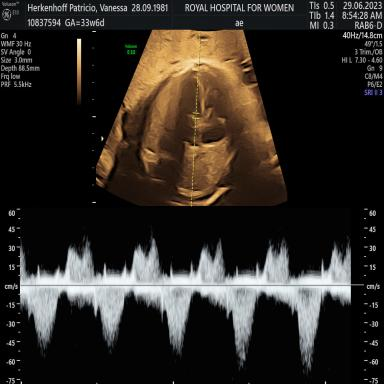Ultrasound-Waves: (26, 215, 350, 384)
